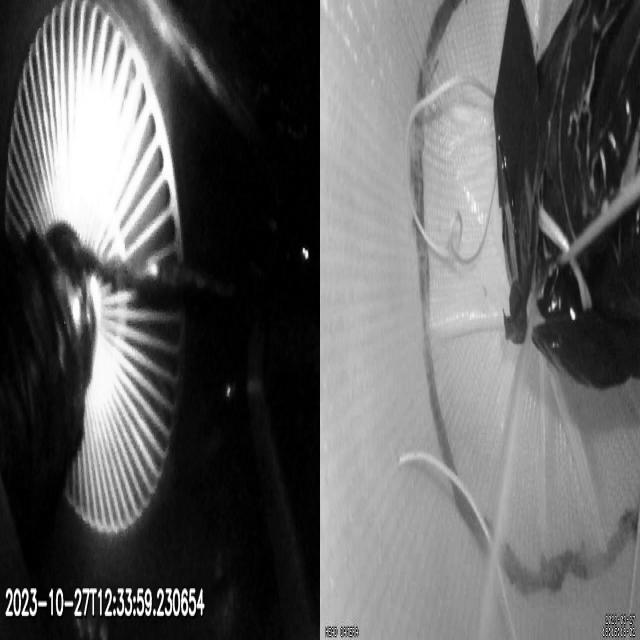red-circle: (410, 0, 640, 592)
